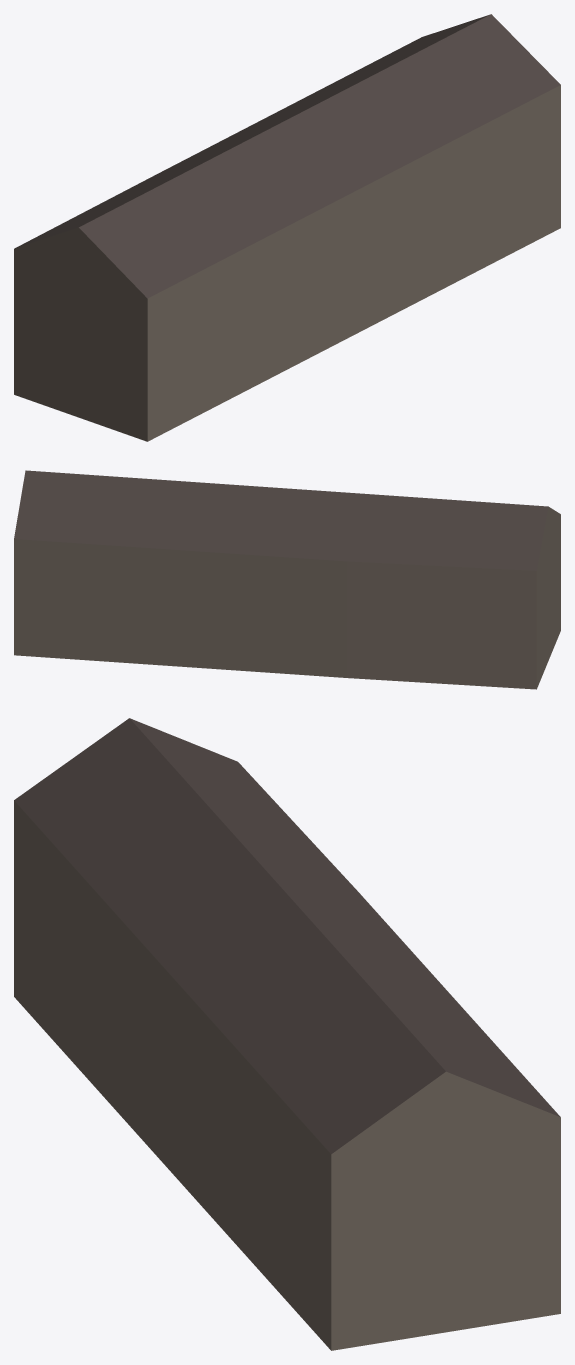
The picture shows the model from 3 angles, top to bottom: view 1: azimuth 30°, elevation 25°; view 2: azimuth 150°, elevation 25°; view 3: azimuth 270°, elevation 25°; orthographic projection. The views are drawn at different scales.
Visible parts, largest first — view 1: HP-w1197020937; view 2: HP-w1197020937; view 3: HP-w1197020937.
Boxes of the visible parts, left/top/right/bottom form: HP-w1197020937: left=14, top=14, right=560, bottom=441; HP-w1197020937: left=14, top=470, right=560, bottom=689; HP-w1197020937: left=14, top=718, right=560, bottom=1350.
Size of the model in its own units: 38.2 by 11.95 by 22.71.
